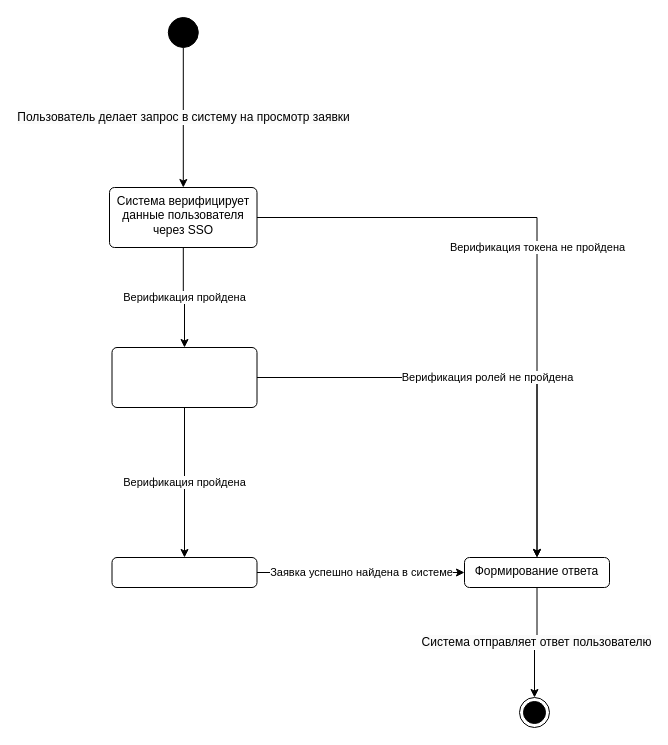
Some shapes in this 668 by 745 pixel diagram are drawn without their labels. Here are the shapes that lost their labels. From the top down, the centre of each, then its label:
At point (184, 377): "Система верифицирует права и роль пользователя".
At point (184, 572): "Обработка запроса".
